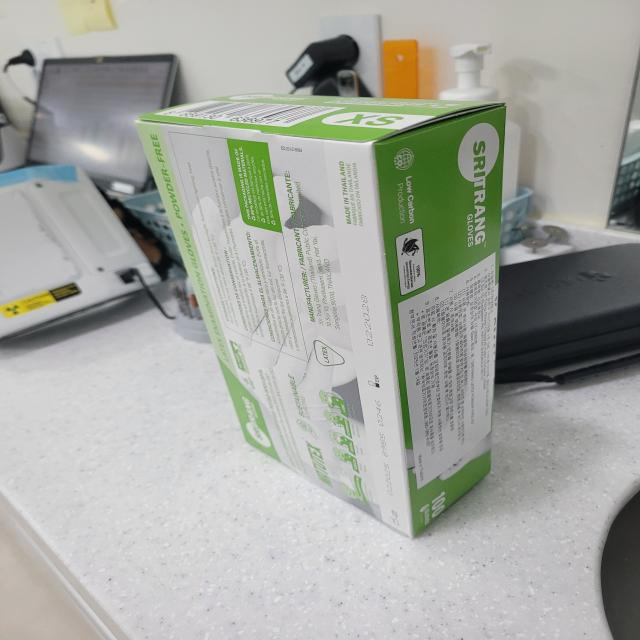glove: (106, 64, 549, 560)
